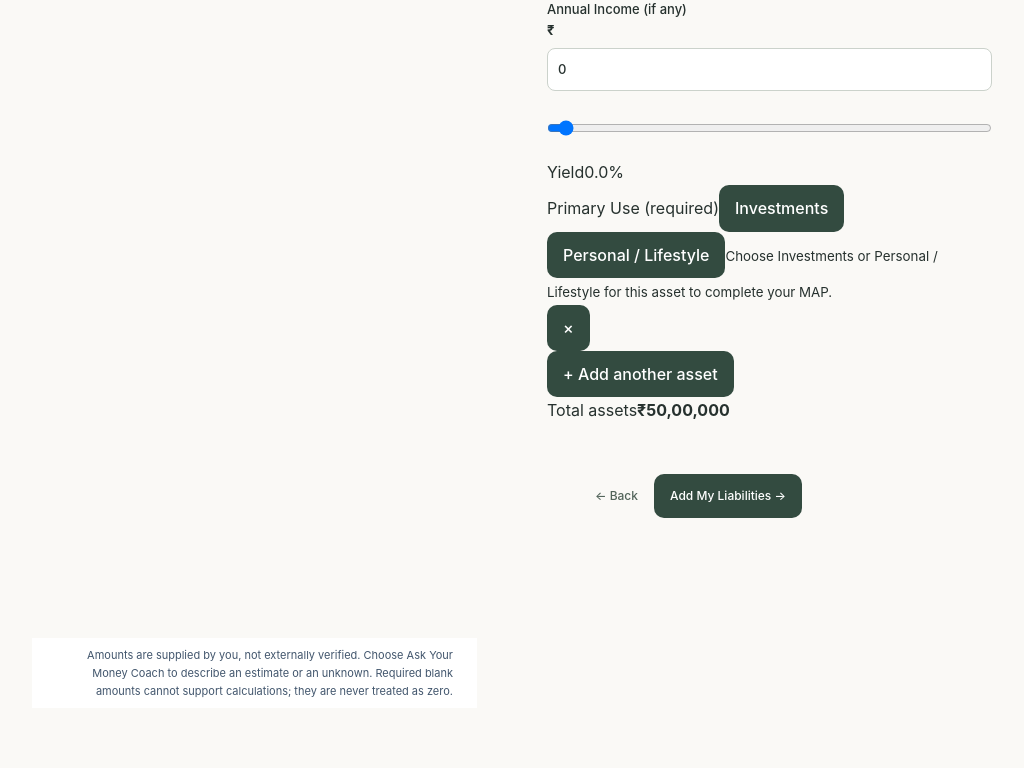
Savings cash asset worth 50,00,000 with zero income visibly requires Primary Use and clears Assets after selection
(page scrolled)
Check: the message reads "Choose Investments or Personal / Lifestyle for this asset to complete your MAP.", box [547,248,938,300]
What coordinates should you click on to do the following:
click the button "Add My Liabilities →"
I would click on:
 (728, 496)
Its box is [654,474,802,518].
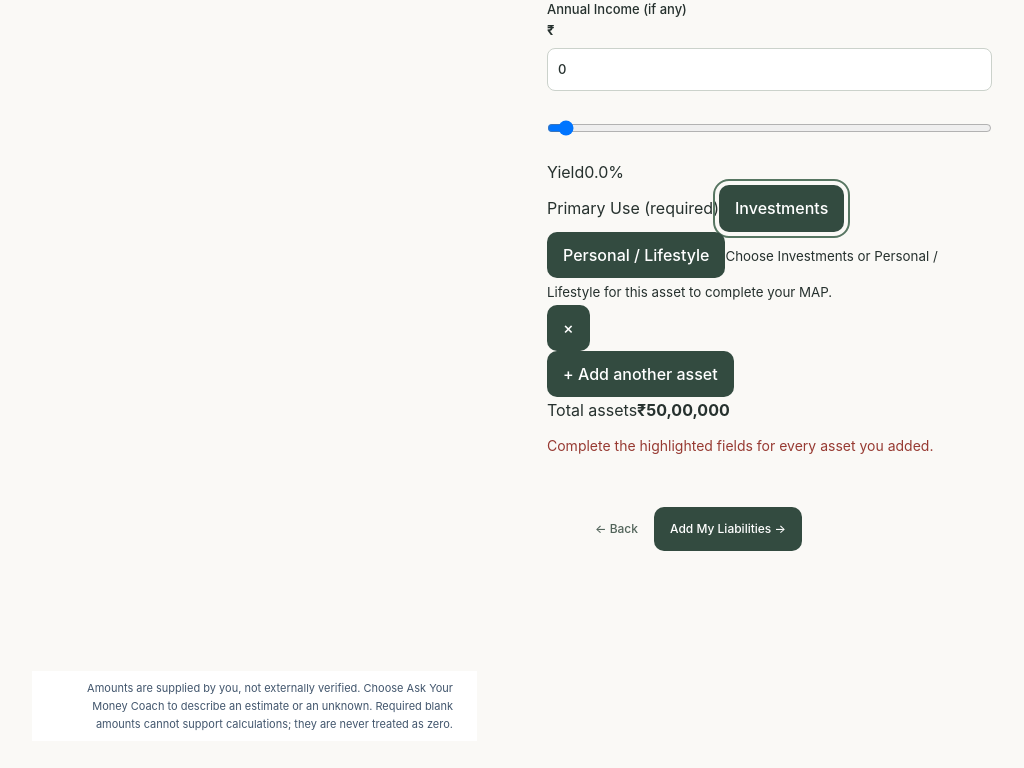
What coordinates should you click on to do the following:
click the button "Personal / Lifestyle"
I would click on:
 (636, 255)
Its box is [547,232,725,278].
(page scrolled)
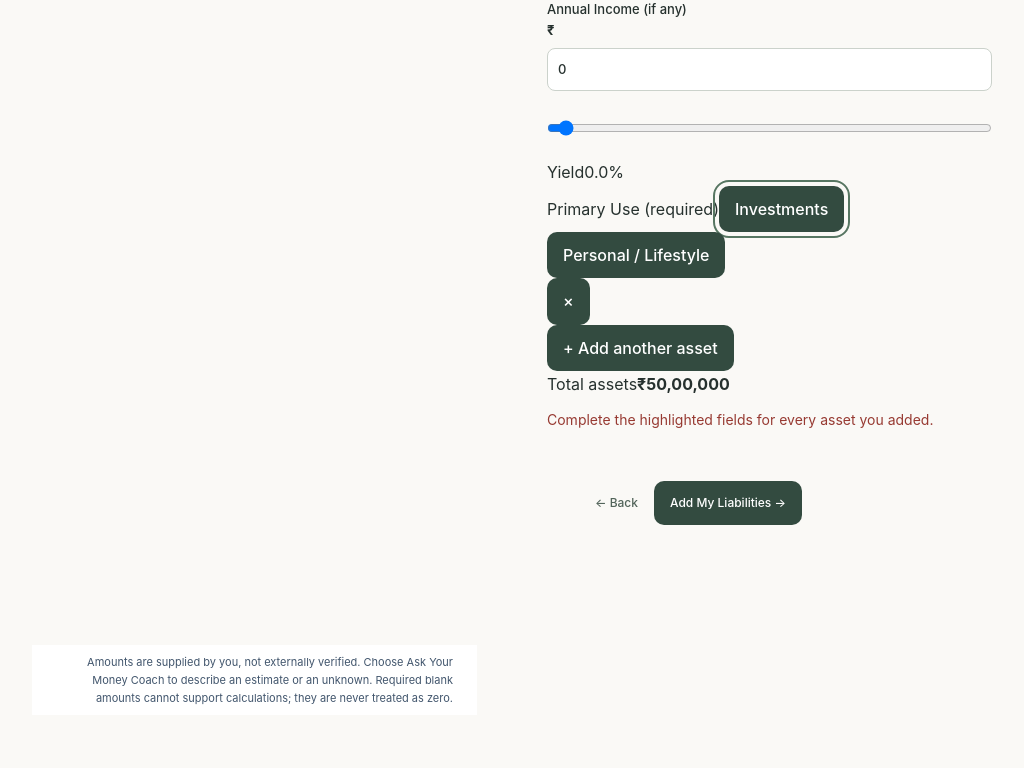
Check: the text "Choose Investments or Personal / Lifestyle for this asset to complete your MAP." is gone
